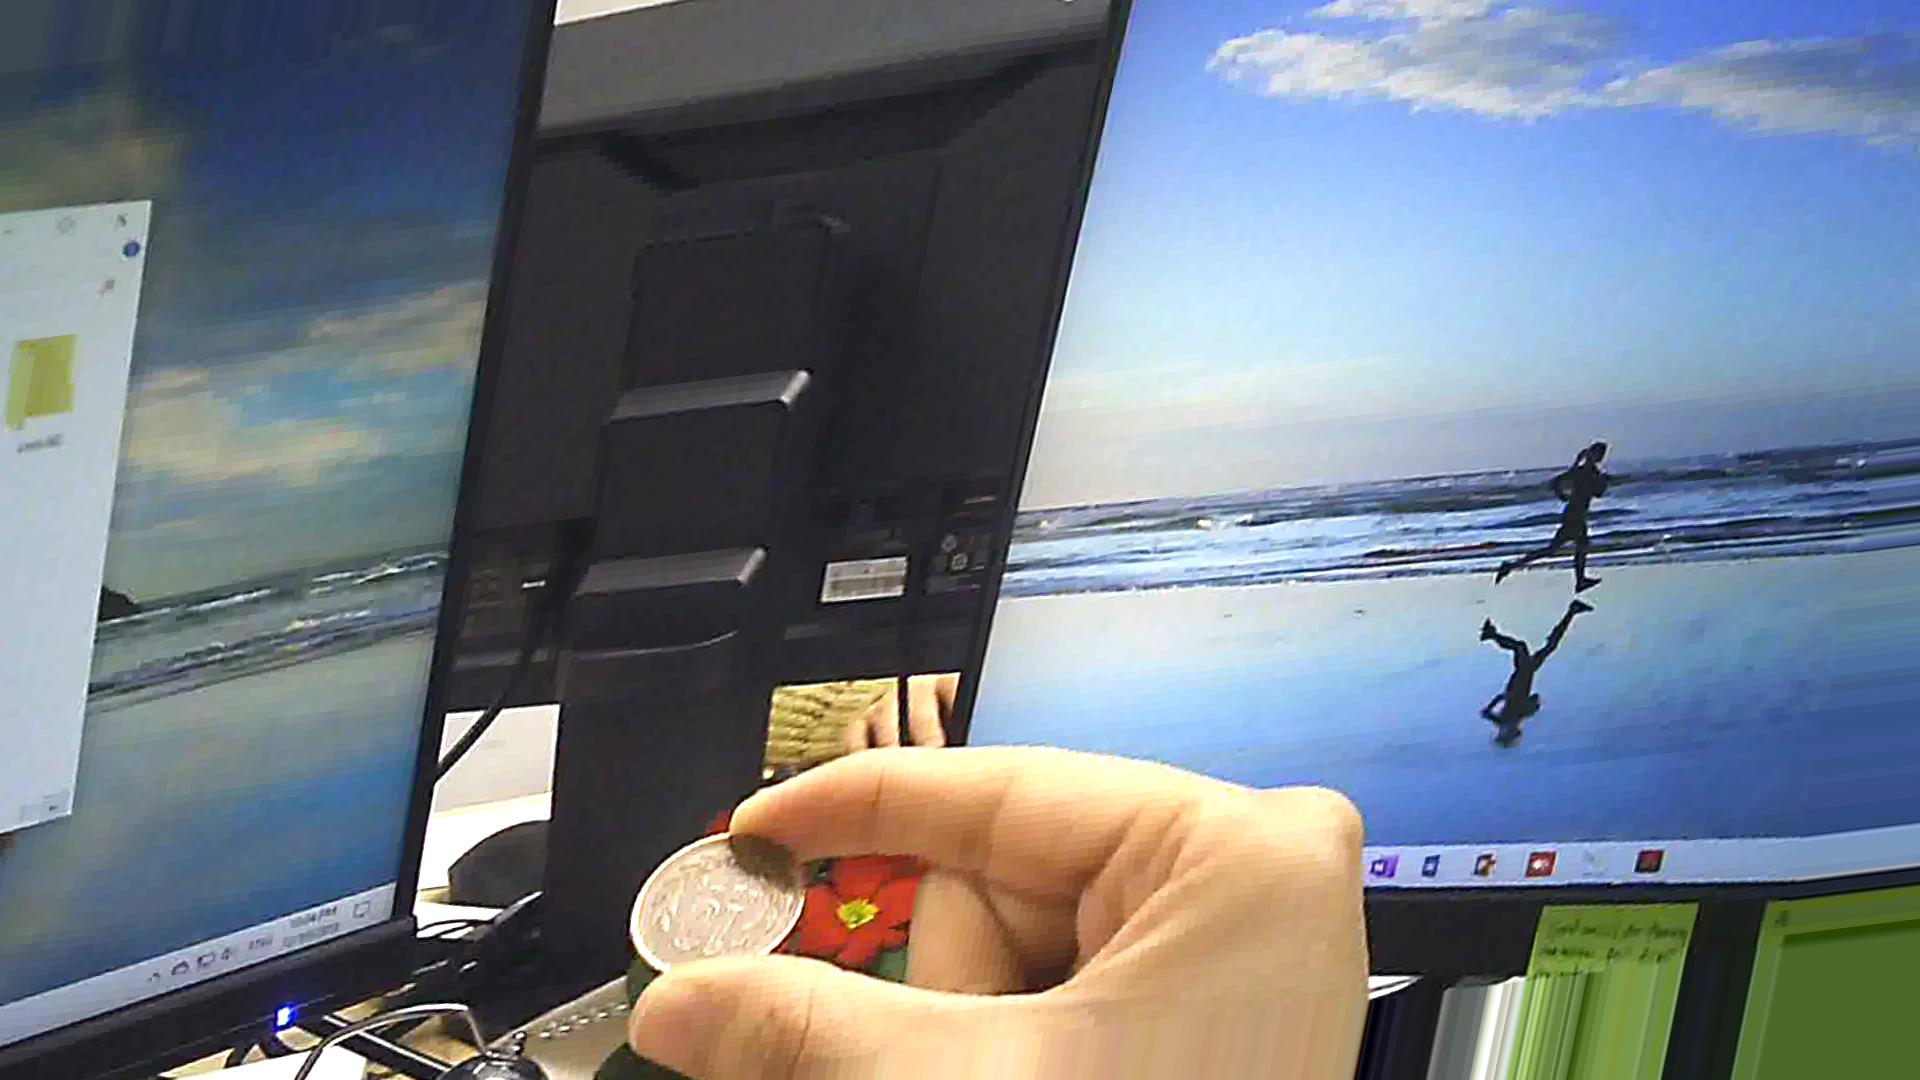10 Yen: (615, 829, 829, 965)
